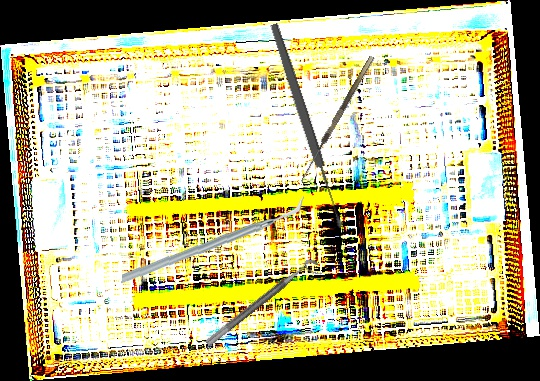Chopper: (121, 189, 304, 291)
Fixation Ring: (204, 255, 325, 357)
Hook Surgical: (297, 55, 382, 187)
Surgical Spoon: (268, 22, 346, 230)
